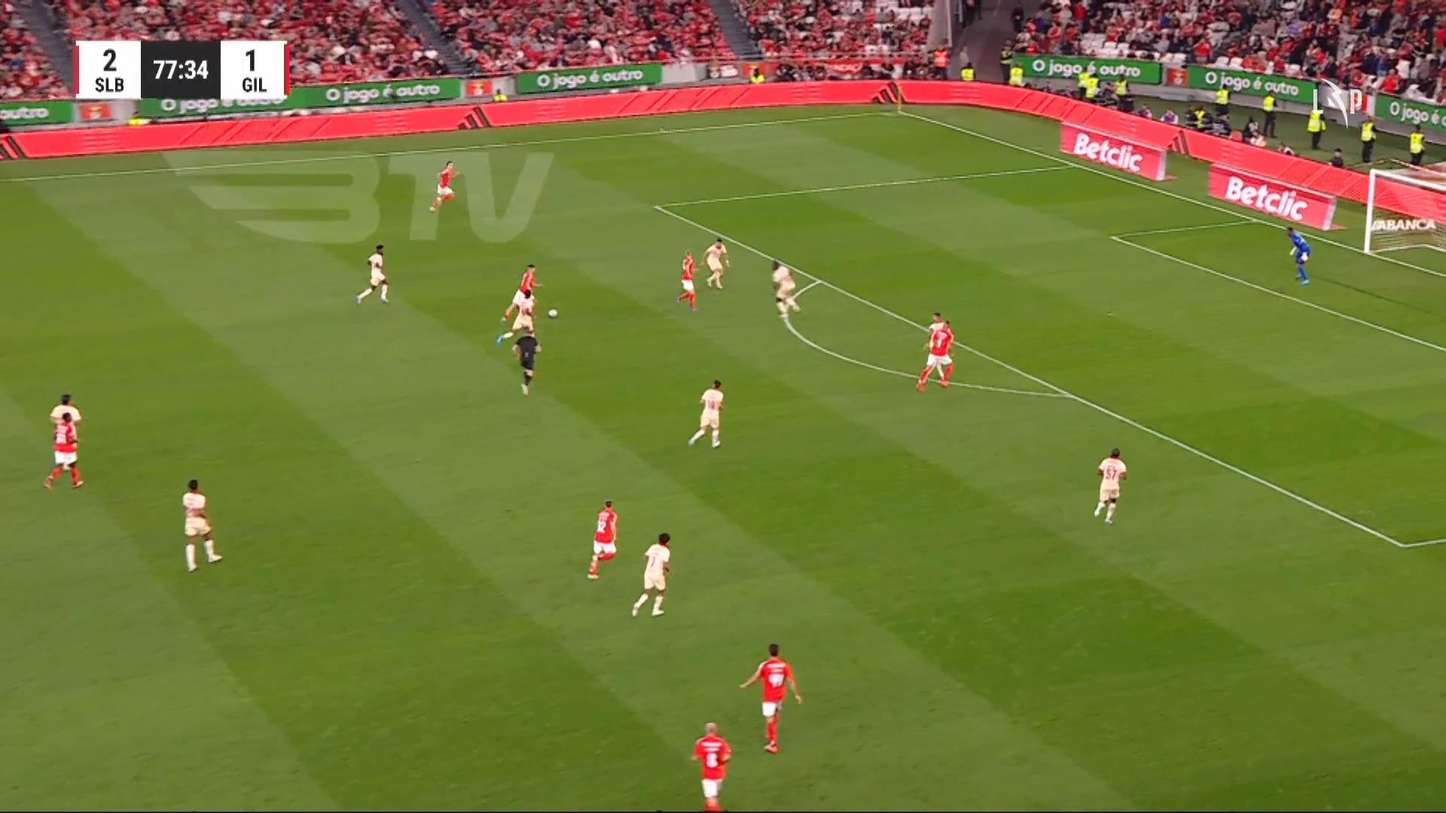ball: (547, 308, 557, 318)
goalkeeper: (1284, 224, 1311, 285)
player: (739, 642, 802, 753), (181, 478, 223, 572), (630, 531, 673, 617), (691, 721, 731, 811), (41, 410, 84, 489), (916, 312, 954, 391), (1094, 446, 1127, 525), (586, 499, 618, 580), (687, 379, 724, 449), (501, 263, 543, 323), (496, 289, 537, 346), (355, 243, 390, 305), (770, 258, 801, 317), (702, 236, 730, 290), (428, 160, 456, 212), (676, 249, 698, 312), (49, 391, 81, 429)
referee: (511, 329, 541, 396)
